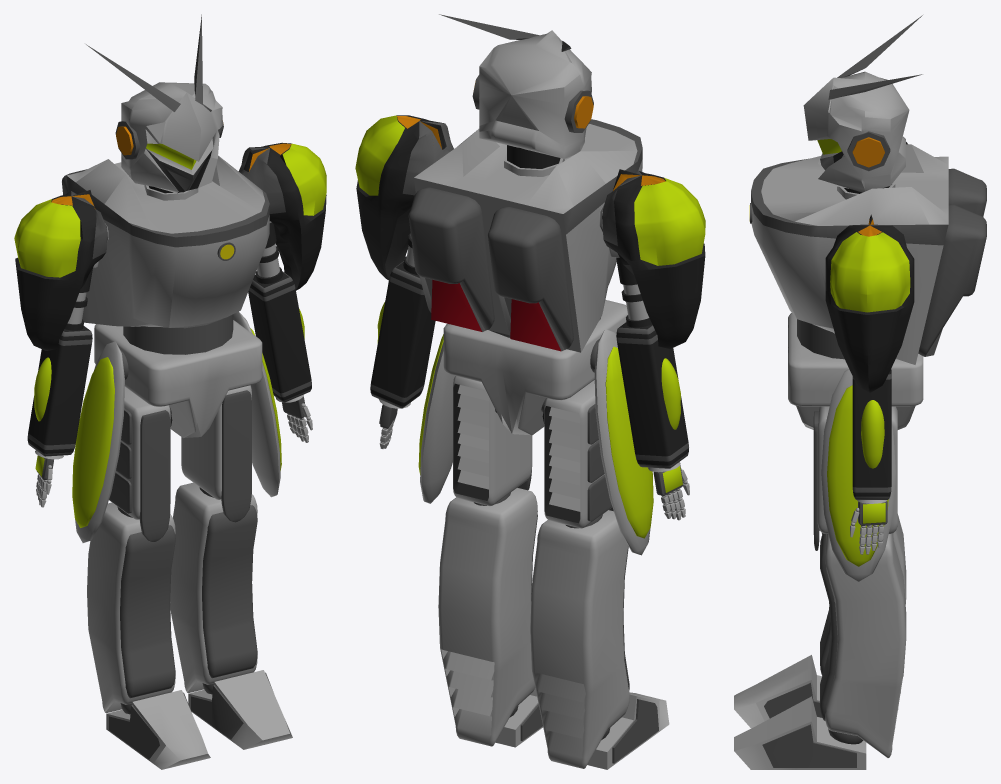
File: UNDROID.fbx
3 renders of one model, left to right at view 1: azimuth 30°, elevation 25°; view 2: azimuth 150°, elevation 25°; view 3: azimuth 270°, elevation 25°, orthographic. The views are drawn at different scales.
Visible parts, largest first — view 1: mqo_mesh; view 2: mqo_mesh; view 3: mqo_mesh.
Part boxes in pixels (bbox=[...]): mqo_mesh: bbox=[14, 14, 326, 769]; mqo_mesh: bbox=[355, 14, 705, 769]; mqo_mesh: bbox=[734, 15, 986, 769].
Bounding box in the file's own units: 203 × 418 × 138.
